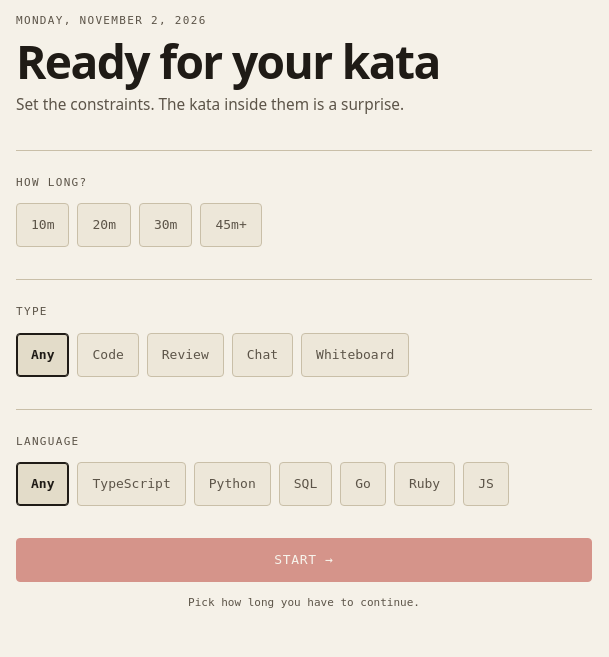
KatasPage (Advanced) › reports a failed start and lets the learner try again
Click the button "10m" at (43, 226), box [16,204,70,248]
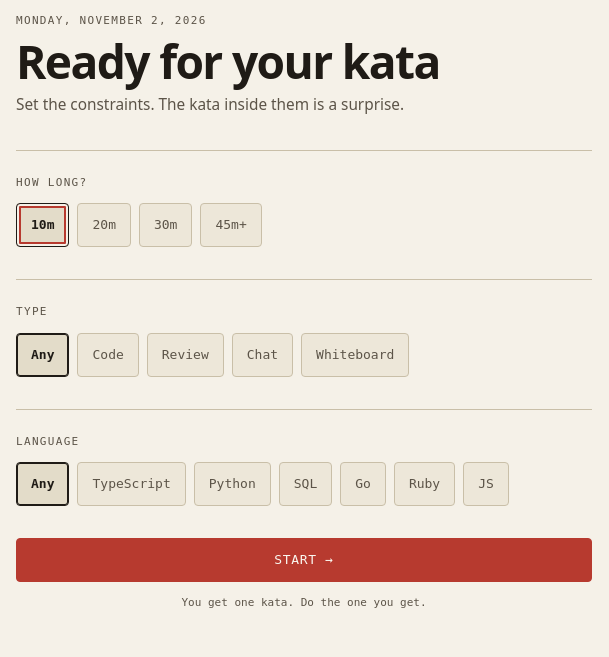
Click the button "Start →" at (304, 560), box [16,538,592,582]
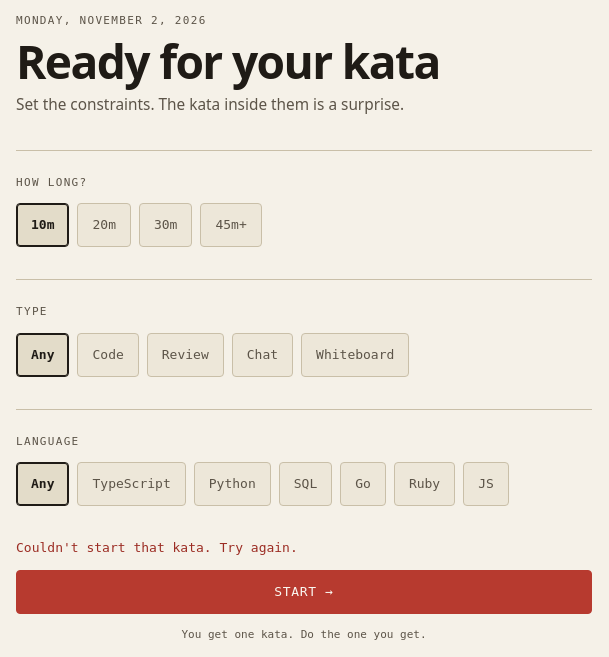
expect the button "Start →" is enabled: met, box [16,570,592,614]
expect the message reads "Couldn't start that kata. Try again.": met, box [16,540,298,556]
